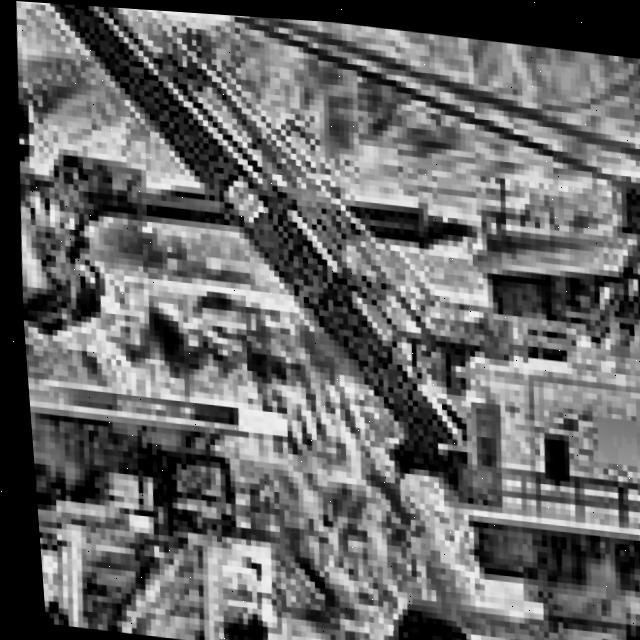dump_truck: (19, 326, 332, 640)
